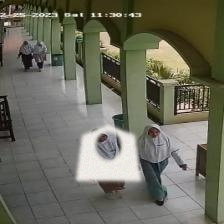Mukena: (76, 124, 140, 181)
